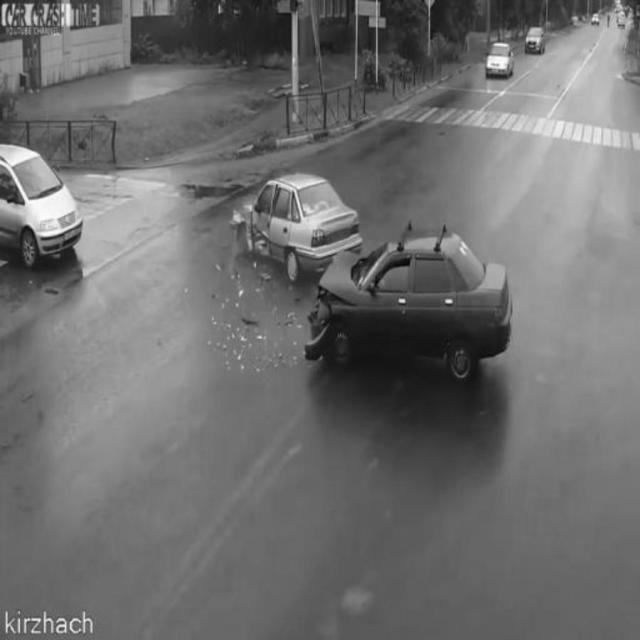accident: (234, 177, 515, 394)
vehicle: (0, 144, 78, 266), (483, 41, 517, 78), (526, 25, 546, 60)
